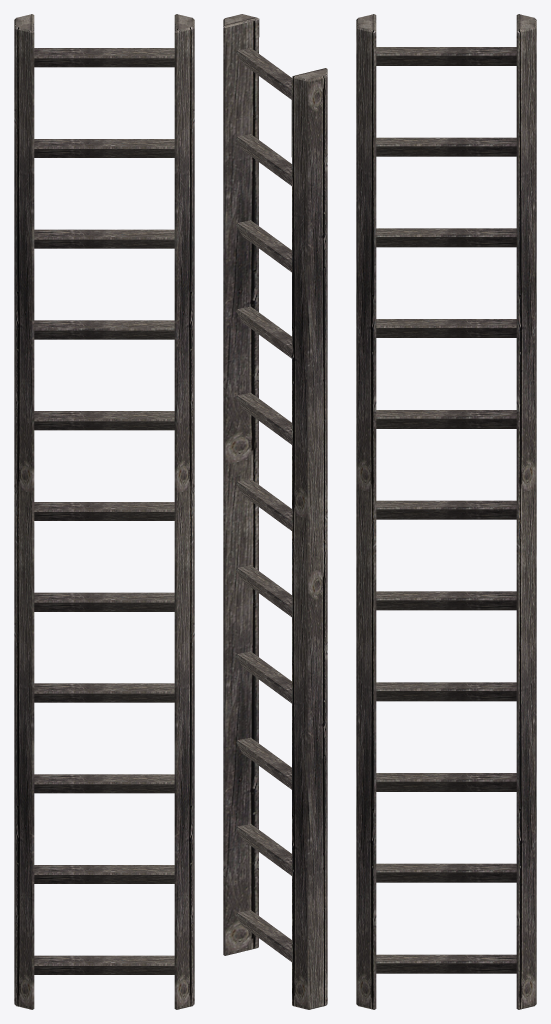
The model's file is ladder.fbx.
The picture shows the model from 3 angles, left to right: view 1: azimuth 90°, elevation 25°; view 2: azimuth 210°, elevation 25°; view 3: azimuth 270°, elevation 25°; orthographic projection. The views are drawn at different scales.
Visible parts, largest first — view 1: ladder_LOD0; view 2: ladder_LOD0; view 3: ladder_LOD0.
Part boxes in pixels (bbox=[...]): ladder_LOD0: bbox=[14, 14, 194, 1009]; ladder_LOD0: bbox=[223, 14, 327, 1009]; ladder_LOD0: bbox=[356, 14, 536, 1009].
Size of what is drawn, in the model's own units: 0.095 by 2.35 by 0.3919.
